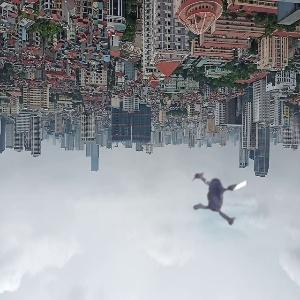drone: (181, 145, 279, 243)
